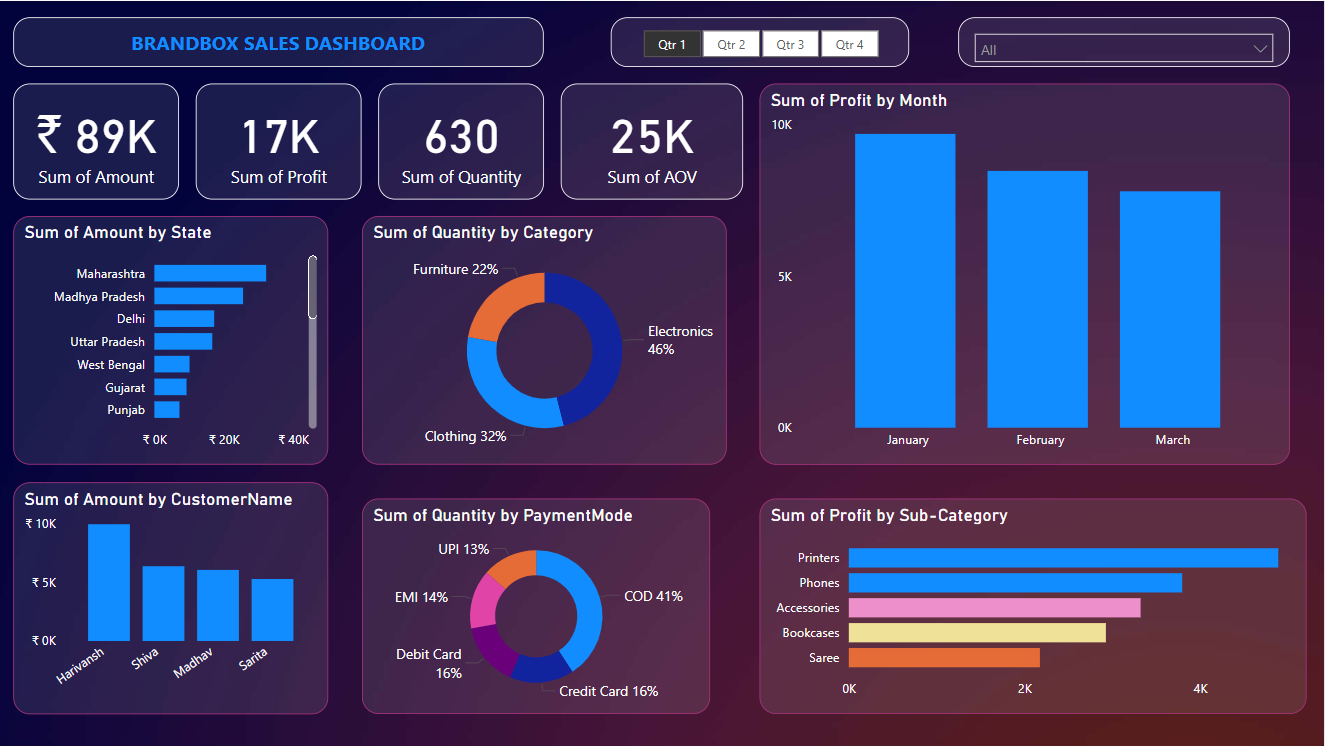

What the dashboard file says about the page in this screenshot:
{"tool":"powerbi","page":{"name":"Page 1","canvas":[1280,720],"ordinal":0},"visuals":[{"type":"textbox","box":[16,16,512,48],"z":0},{"type":"clusteredColumnChart","fields":{"Category":["Orders.Order Date.Variation.Date Hierarchy.Month"],"Y":["Details.Profit"]},"box":[736,80,512,368],"z":1000},{"type":"barChart","fields":{"Category":["Details.Sub-Category"],"Y":["Details.Profit"]},"box":[736,480,528,208],"z":2000},{"type":"donutChart","fields":{"Category":["Details.Category"],"Y":["Details.Quantity"]},"box":[352,208,352,240],"z":3000},{"type":"donutChart","fields":{"Y":["Details.Quantity"],"Category":["Details.PaymentMode"]},"box":[352,480,336,208],"z":4000},{"type":"card","fields":{"Values":["Details.Amount"]},"box":[16,80,160,112],"z":5000},{"type":"card","fields":{"Values":["Details.Profit"]},"box":[192,80,160,112],"z":6000},{"type":"card","fields":{"Values":["Details.Quantity"]},"box":[368,80,160,112],"z":7000},{"type":"card","fields":{"Values":["Details.Average_OrderValue"]},"box":[544,80,176,112],"z":8000},{"type":"barChart","fields":{"Category":["Orders.State"],"Y":["Details.Amount"]},"box":[16,208,304,240],"z":9000},{"type":"columnChart","fields":{"Category":["Orders.CustomerName"],"Y":["Details.Amount"]},"box":[16,464,304,224],"z":10000},{"type":"slicer","fields":{"Values":["Orders.Order Date.Variation.Date Hierarchy.Quarter"]},"box":[592,16,288,48],"z":11000},{"type":"slicer","fields":{"Values":["Orders.State"]},"box":[928,16,320,48],"z":12000}]}

Visuals, with their boxes in screenshot pixels (x1, y1, x2, y2), scaled from the page's 1280x720 canvas onto the 1325x746 screenshot:
textbox: <bbox>17, 17, 547, 66</bbox>
clusteredColumnChart - Orders.Order Date.Variation.Date Hierarchy.Month x Details.Profit: <bbox>762, 83, 1292, 464</bbox>
barChart - Details.Sub-Category x Details.Profit: <bbox>762, 497, 1308, 713</bbox>
donutChart - Details.Category x Details.Quantity: <bbox>364, 216, 729, 464</bbox>
donutChart - Details.Quantity x Details.PaymentMode: <bbox>364, 497, 712, 713</bbox>
card - Details.Amount: <bbox>17, 83, 182, 199</bbox>
card - Details.Profit: <bbox>199, 83, 364, 199</bbox>
card - Details.Quantity: <bbox>381, 83, 547, 199</bbox>
card - Details.Average_OrderValue: <bbox>563, 83, 745, 199</bbox>
barChart - Orders.State x Details.Amount: <bbox>17, 216, 331, 464</bbox>
columnChart - Orders.CustomerName x Details.Amount: <bbox>17, 481, 331, 713</bbox>
slicer - Orders.Order Date.Variation.Date Hierarchy.Quarter: <bbox>613, 17, 911, 66</bbox>
slicer - Orders.State: <bbox>961, 17, 1292, 66</bbox>
